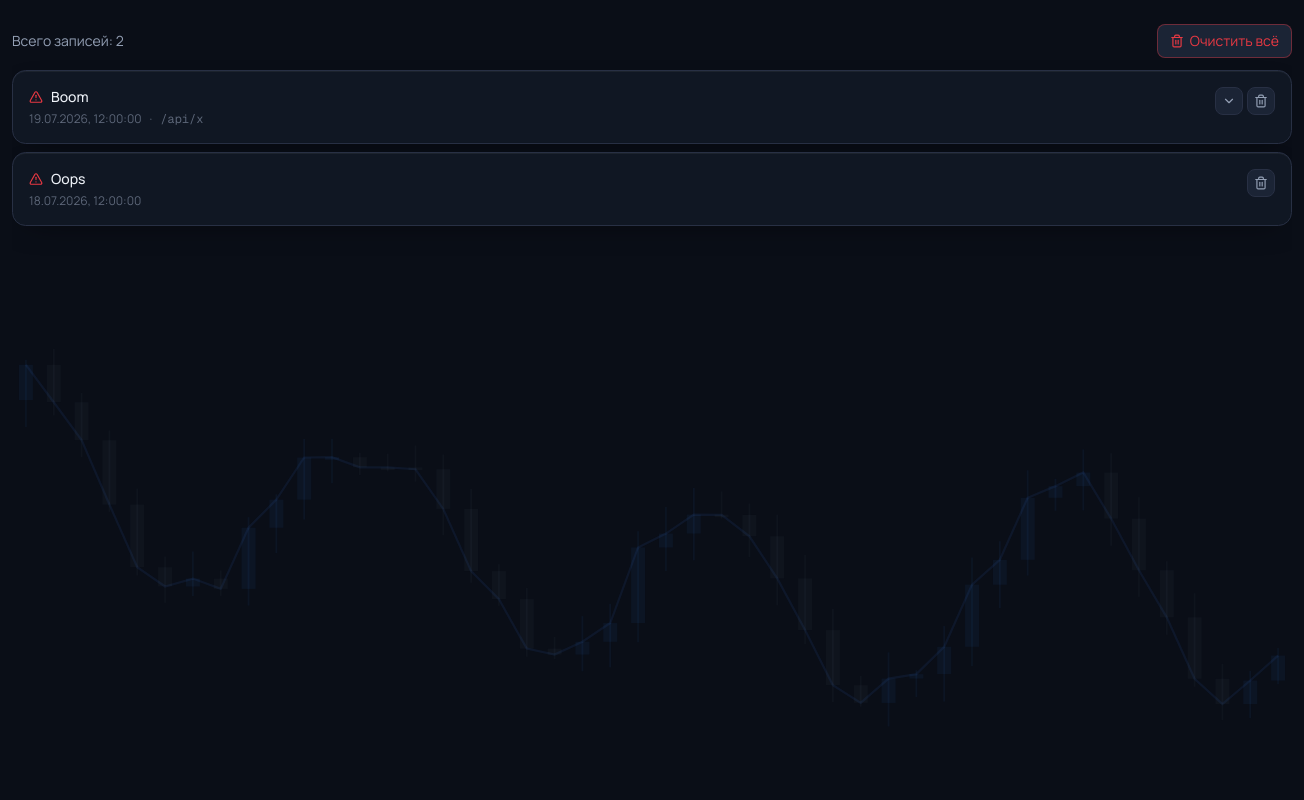
Test case: AdminErrors › clears all errors after confirm
This screenshot has width=1304, height=800.
Expected: the text "Boom" is shown, [51,87,89,107]
Click the button "Очистить всё" at (1224, 41), box [1157,24,1292,58]
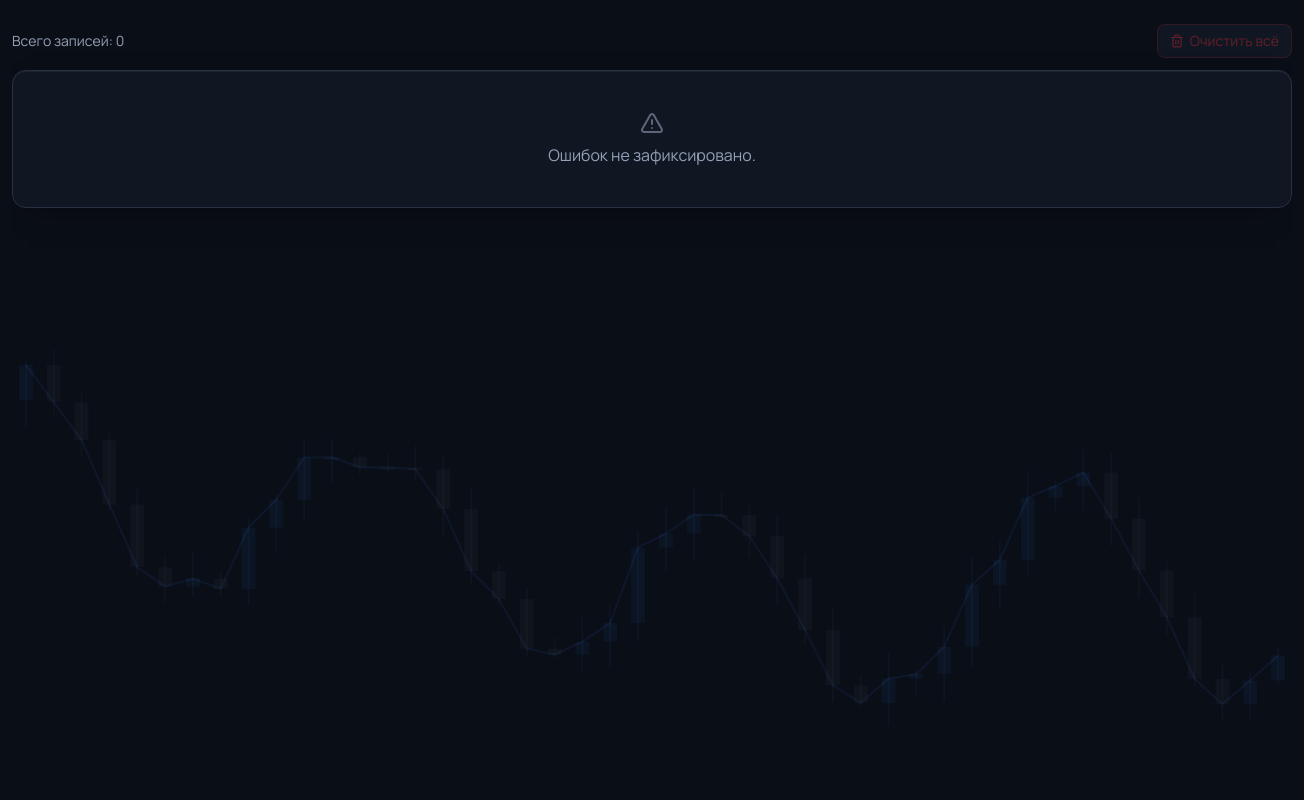
Result: the text "Ошибок не зафиксировано." is shown at [12,70,1292,208]
